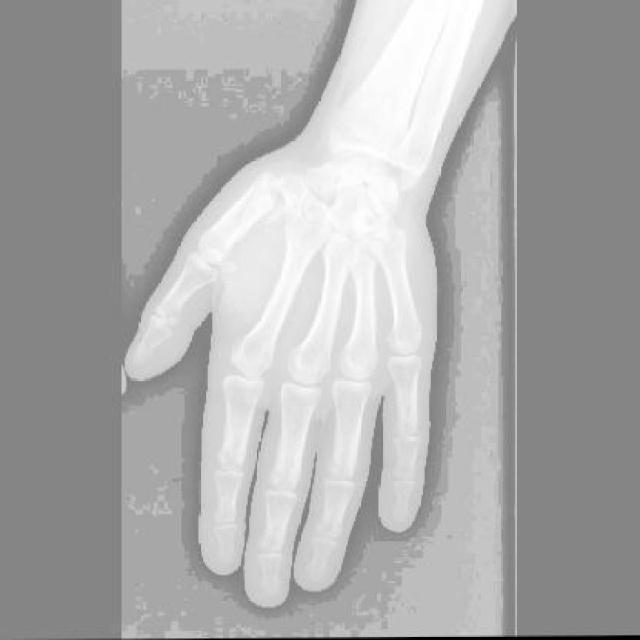Fracture: (218, 171, 291, 250)
